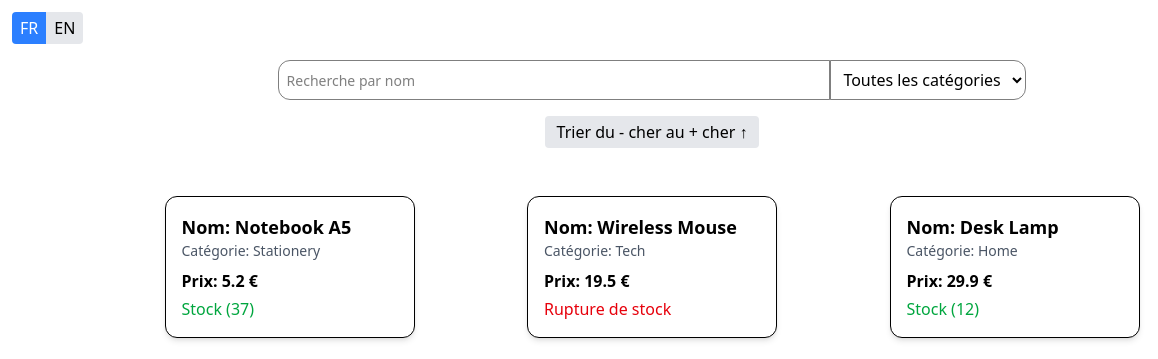
it: CatalogueHomePage › should filter products by category
The width and height of the screenshot is (1158, 359).
Select "Tech" in the dropdown named "Catégorie". click: point(928, 80)
box: 830,60 -> 1026,100
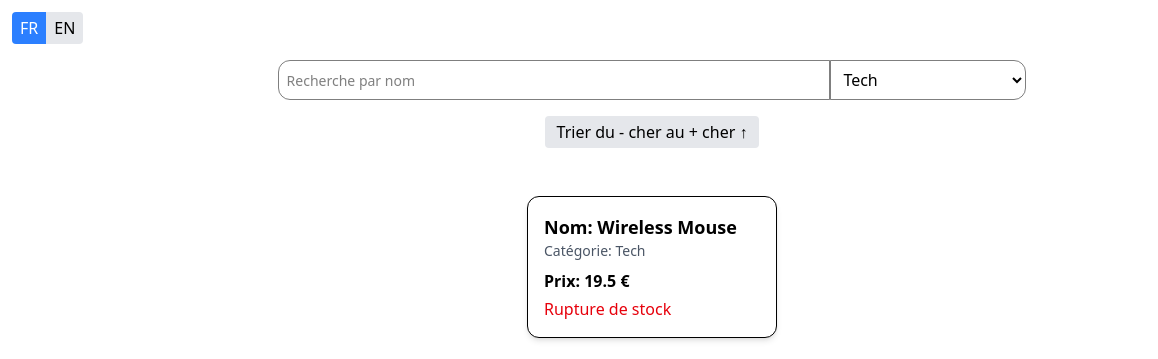
Expected: the heading "Nom: Wireless Mouse" is shown, 544,213 -> 760,241
Expected: the heading "Notebook A5" is gone
